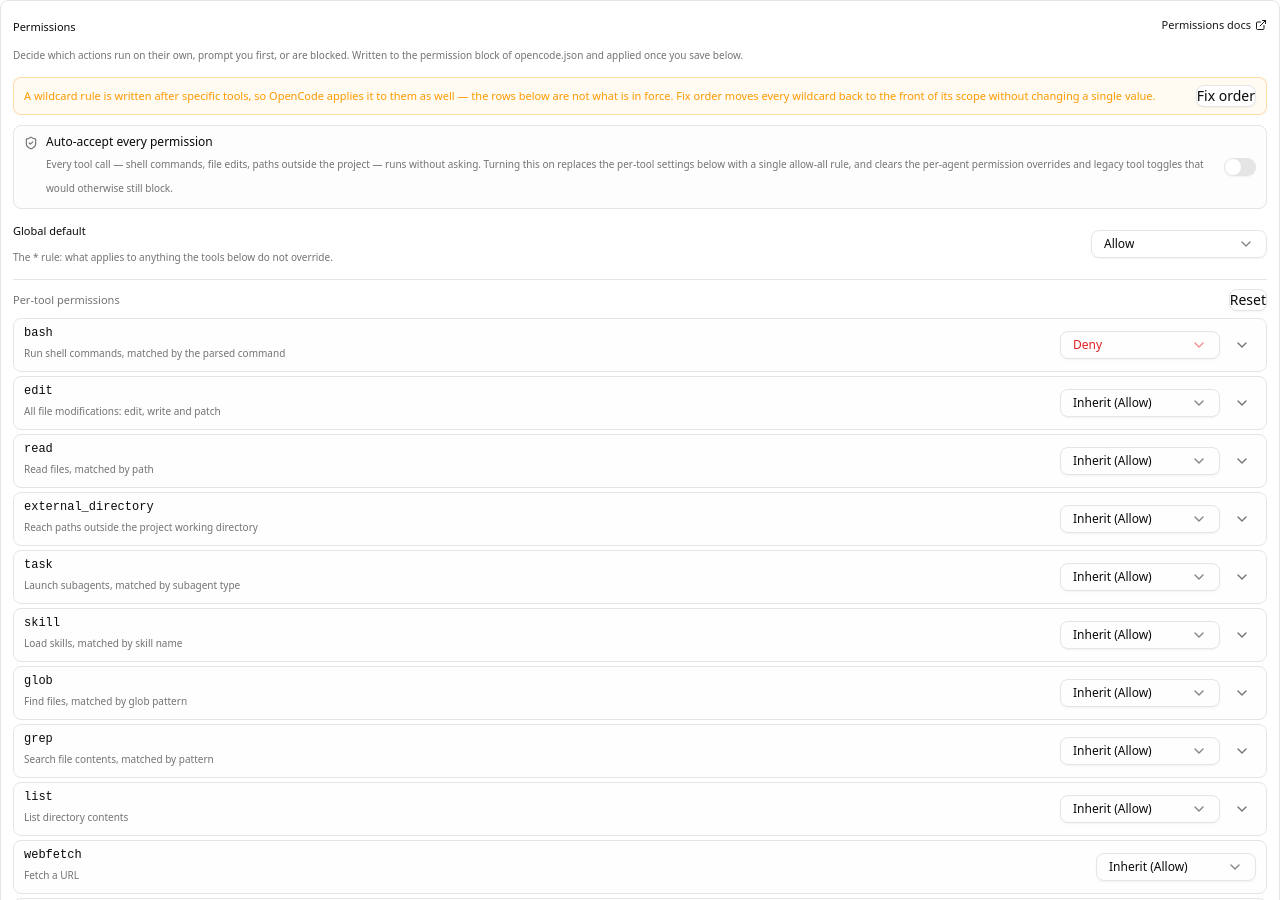
OpenCodePermissionsSection › warns that a trailing wildcard overrides the rows, and can fix it
The width and height of the screenshot is (1280, 900).
Expected: the text "A wildcard rule is written after specific tools" is shown, [24,88,1156,103]
Click the button "Fix order". click: (1226, 96)
box: [1196,85,1256,107]
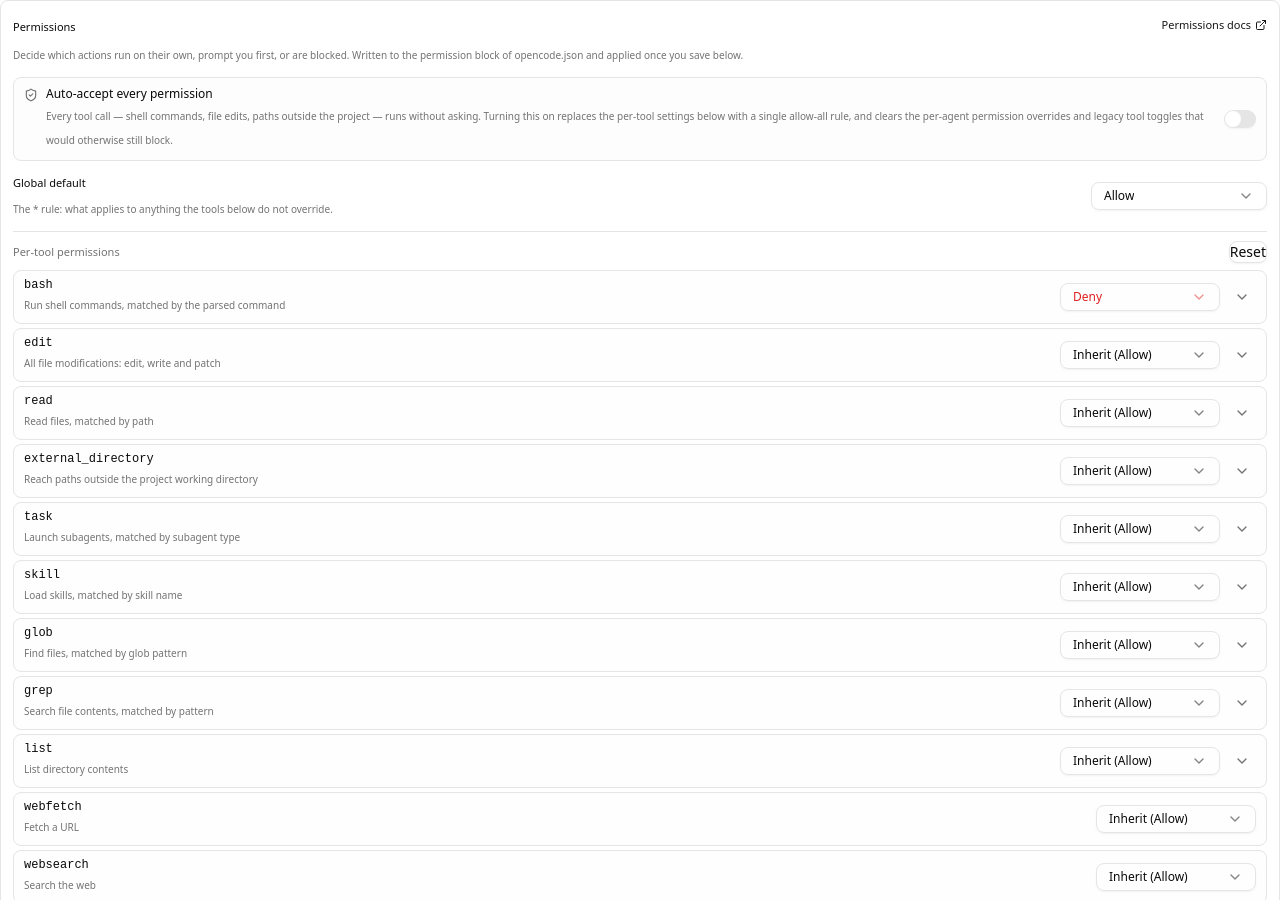
Result: the text "A wildcard rule is written after specific tools" is gone
